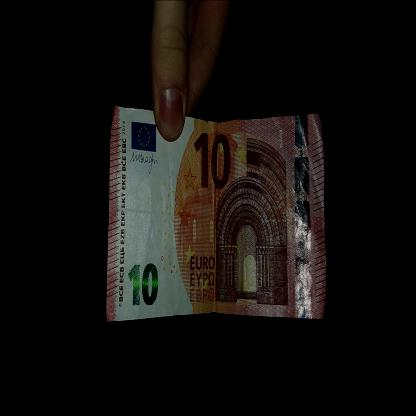euro_banknote: (109, 109, 327, 324)
